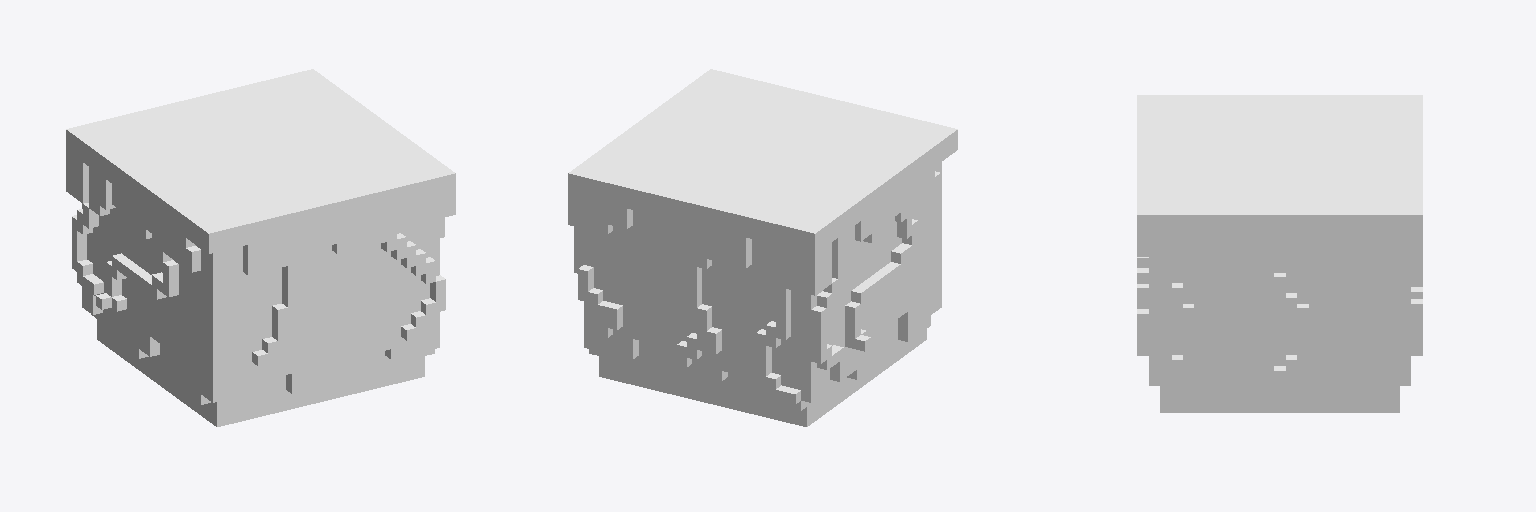
The model's file is TestGame-3.obj.
The picture shows the model from 3 angles: view 1: azimuth 30°, elevation 25°; view 2: azimuth 150°, elevation 25°; view 3: azimuth 270°, elevation 25°; orthographic projection.
Parts seen in each view (by area): view 1: object 1; view 2: object 1; view 3: object 1.
Boxes of the visible parts, <box> form: object 1: <box>66,69,455,426</box>; object 1: <box>568,69,957,426</box>; object 1: <box>1137,95,1422,412</box>.
Size of the model in its own units: 2.6 by 2 by 2.5.